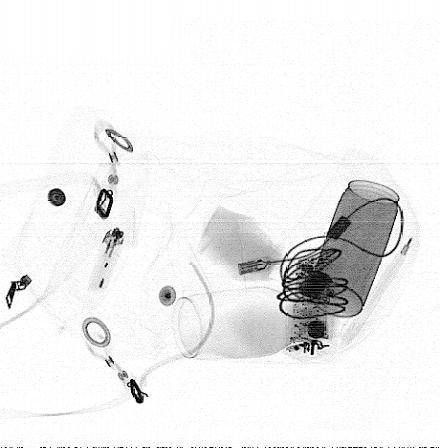Lighter: (89, 226, 126, 292)
